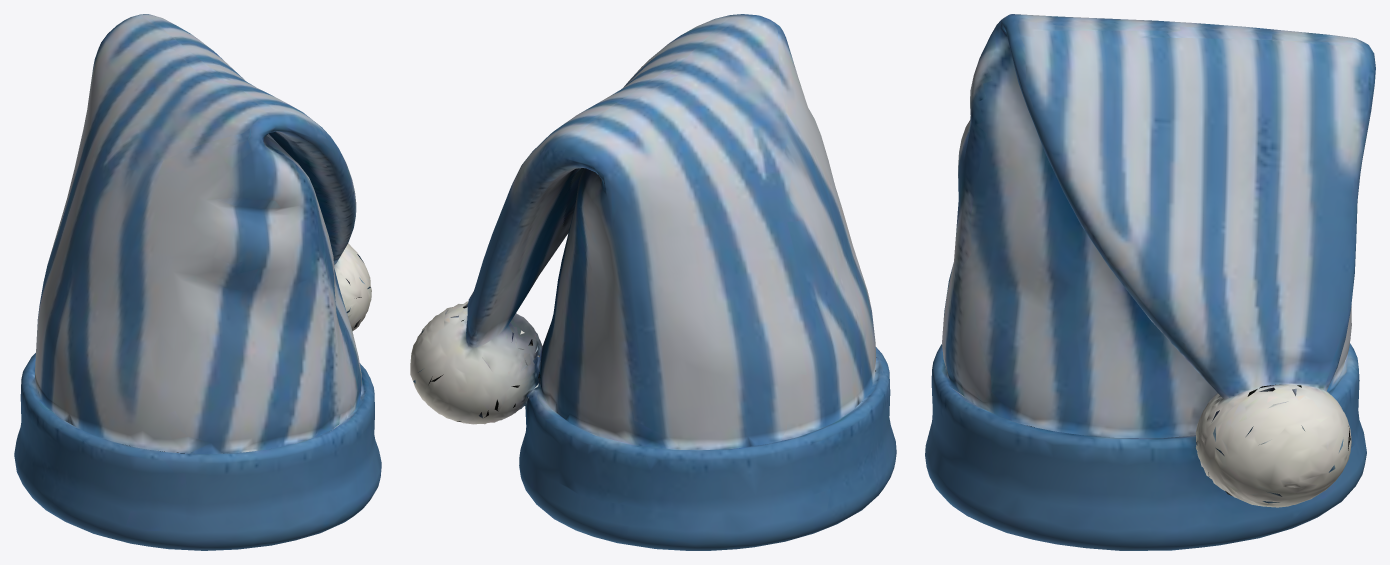
The model's file is nightcap.glb.
The picture shows the model from 3 angles, left to right: view 1: azimuth 30°, elevation 25°; view 2: azimuth 150°, elevation 25°; view 3: azimuth 270°, elevation 25°; orthographic projection. The views are drawn at different scales.
Parts seen in each view (by area): view 1: node_0; view 2: node_0; view 3: node_0.
Part boxes in pixels (box(x1,y1,x2,y2)): node_0: box(14, 14, 381, 550); node_0: box(410, 14, 896, 550); node_0: box(925, 14, 1375, 550).
Size of the model in its own units: 0.46 by 0.4654 by 0.414.
Materials: 1 (1 with a texture image).
